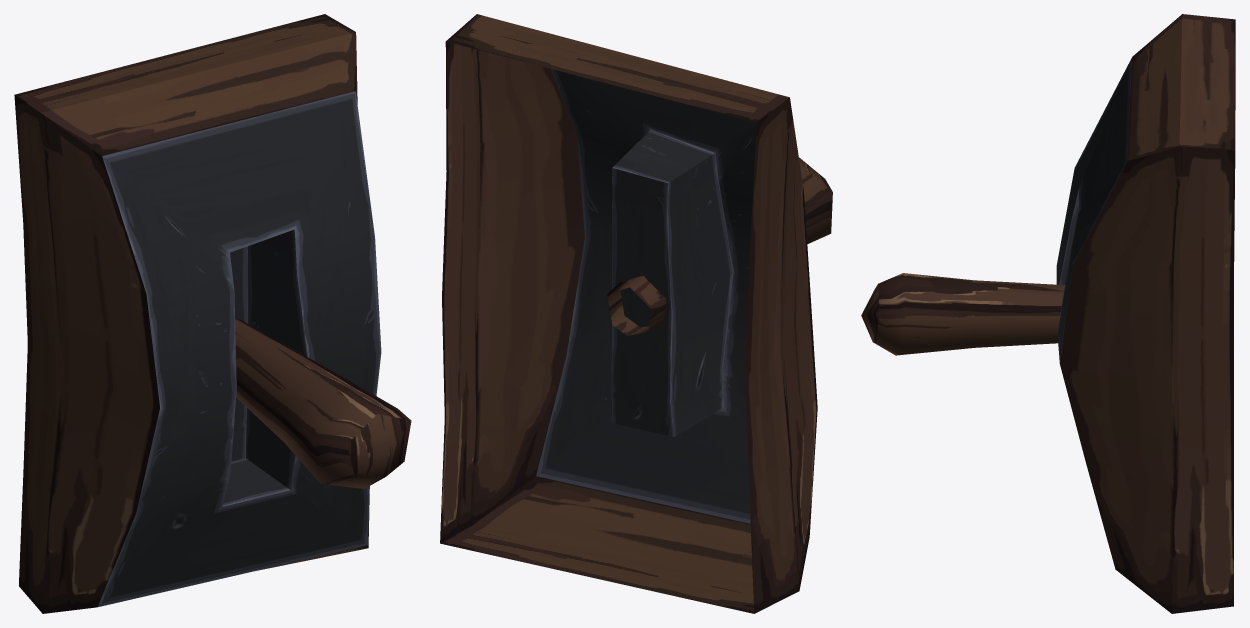
File: SM_PROP_lever_dungeon_02.fbx
3 renders of one model, left to right at view 1: azimuth 30°, elevation 25°; view 2: azimuth 150°, elevation 25°; view 3: azimuth 270°, elevation 25°, orthographic. The views are drawn at different scales.
Parts seen in each view (by area): view 1: SM_PROP_lever_dungeon_02, SM_PROP_lever_handle_dungeon_02; view 2: SM_PROP_lever_dungeon_02, SM_PROP_lever_handle_dungeon_02; view 3: SM_PROP_lever_dungeon_02, SM_PROP_lever_handle_dungeon_02.
Boxes of the visible parts, x1,y1,x2,y2 form: SM_PROP_lever_dungeon_02: [14, 14, 381, 613]; SM_PROP_lever_handle_dungeon_02: [235, 318, 411, 488]; SM_PROP_lever_dungeon_02: [440, 14, 817, 613]; SM_PROP_lever_handle_dungeon_02: [607, 157, 832, 335]; SM_PROP_lever_dungeon_02: [1056, 14, 1235, 613]; SM_PROP_lever_handle_dungeon_02: [861, 273, 1064, 355].
Size of the model in its own units: 29.29 by 44.24 by 32.41.
